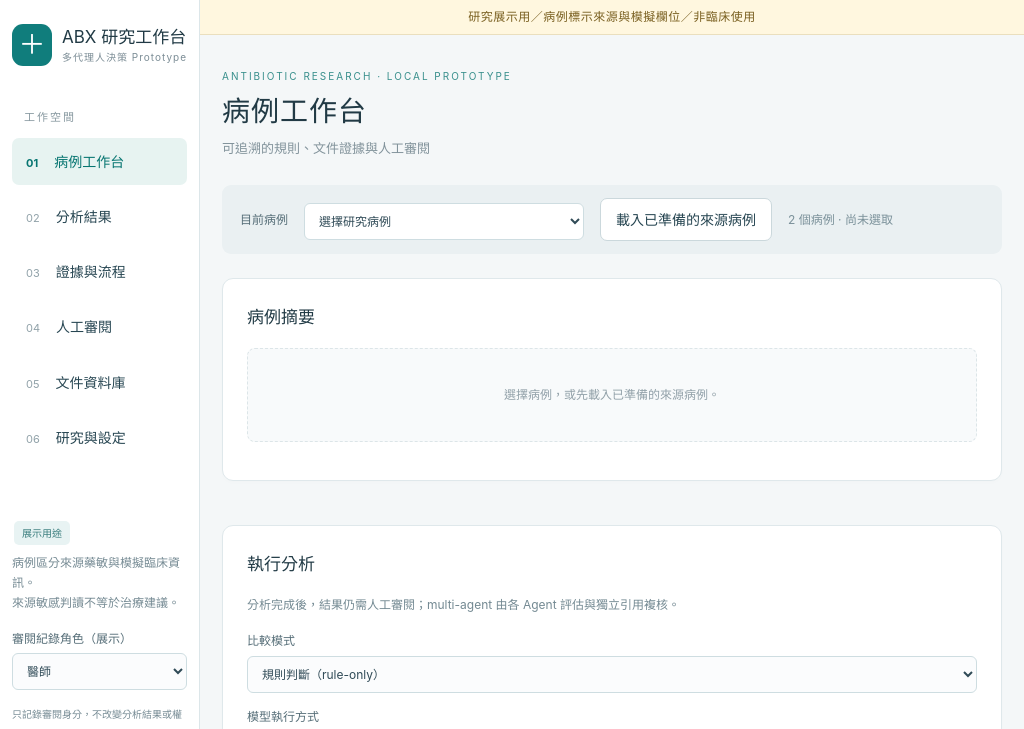
Test case: reference selection resets between cases and saves library or pinned scope
The width and height of the screenshot is (1024, 729).
Select "a · revision 1" in the dropdown labelled "目前病例": (444, 222) [304,204,584,240]
(page scrolled)
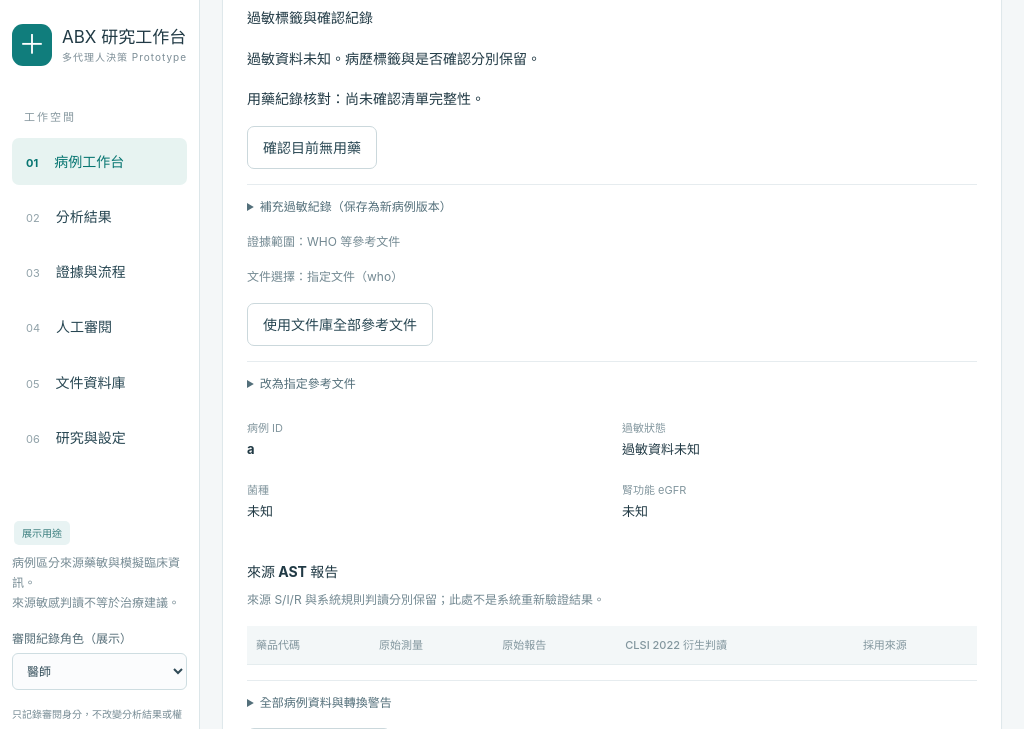
Now the heading "改為指定參考文件" is shown
Click the heading "改為指定參考文件": (308, 384) [260,376,356,391]
(page scrolled)
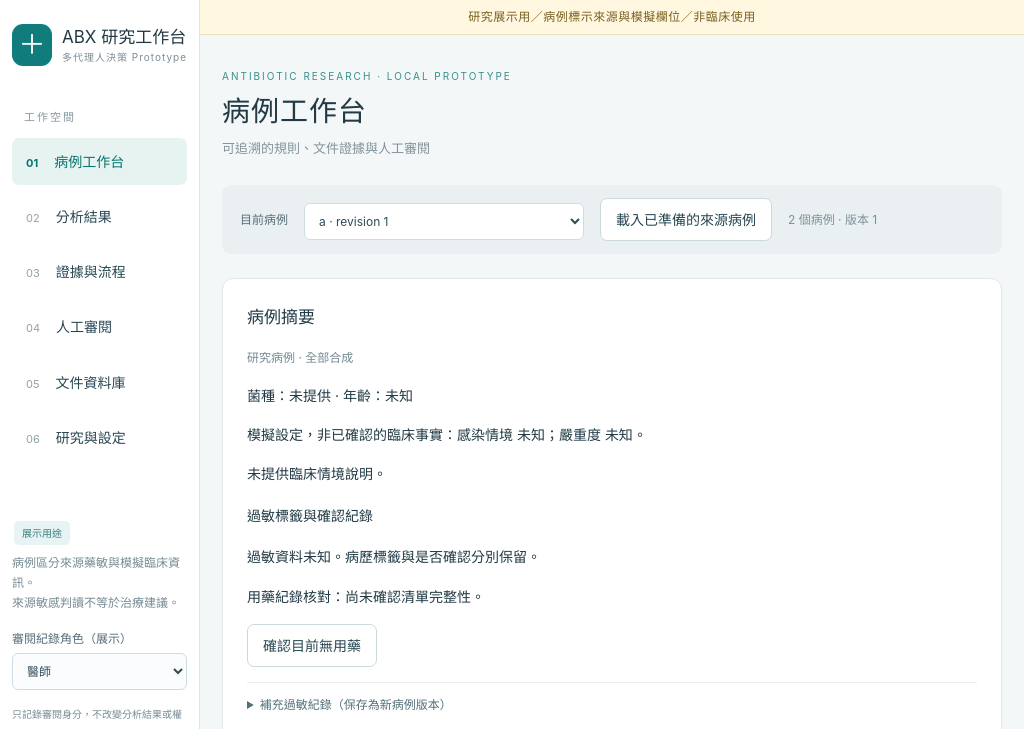
Select "b · revision 1" in the dropdown labelled "目前病例": (444, 222) [304,204,584,240]
(page scrolled)
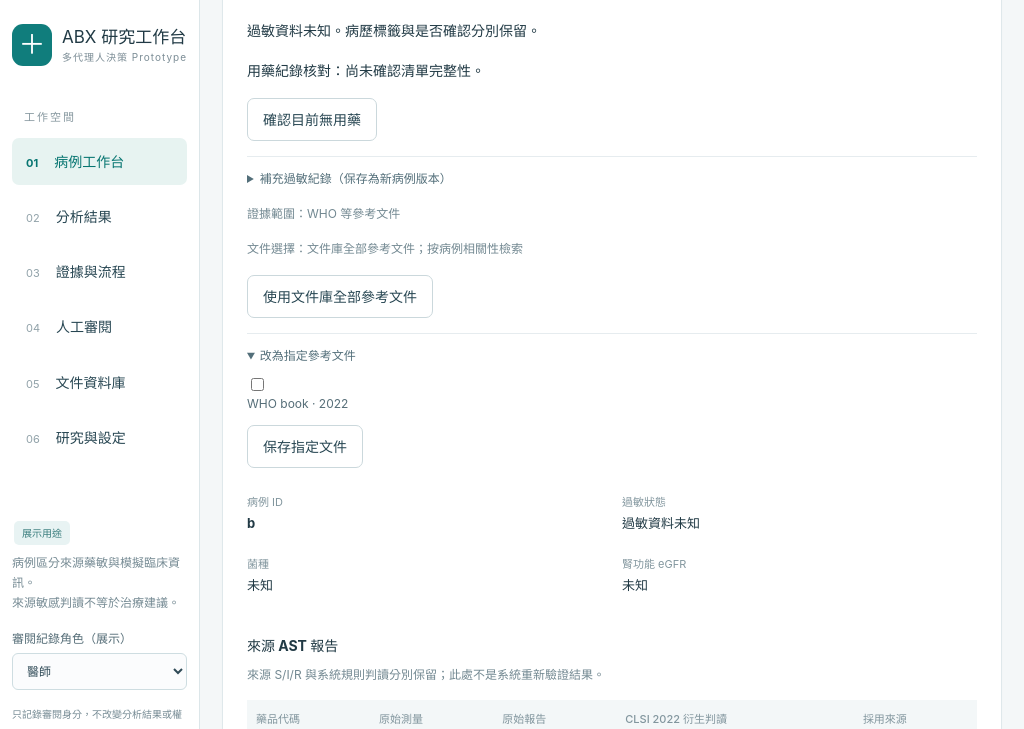
Now the checkbox labelled "WHO book · 2022" is not checked
Click the checkbox labelled "WHO book · 2022": (258, 384) [251,378,264,391]
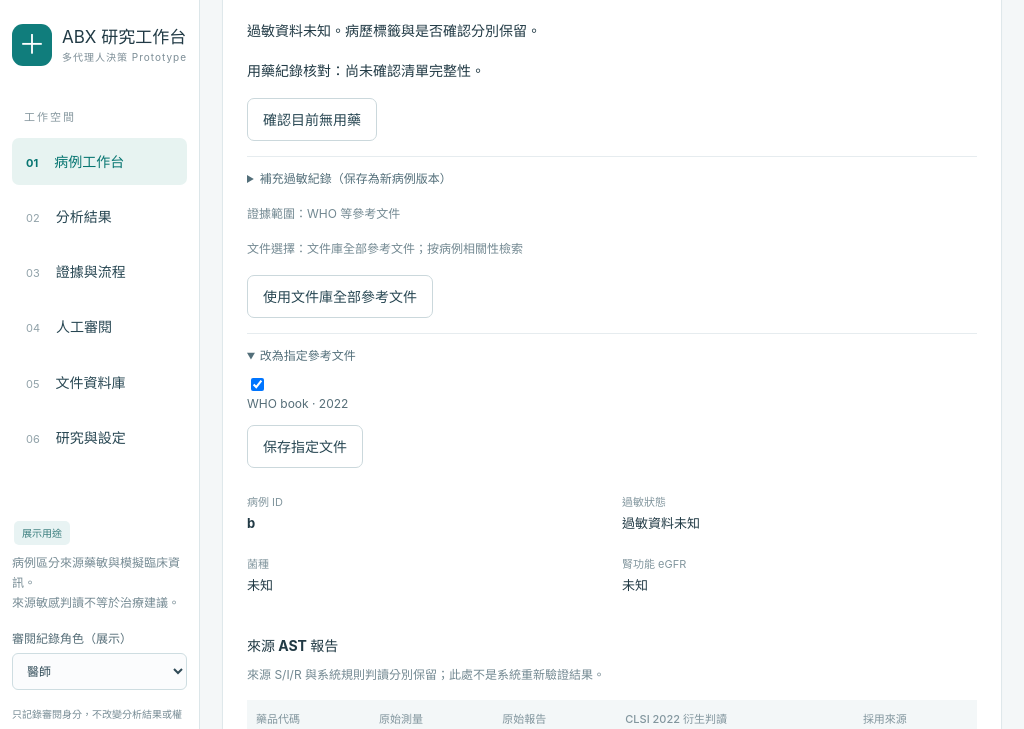
Click the button "保存指定文件": (305, 447) [247,425,363,468]
(page scrolled)
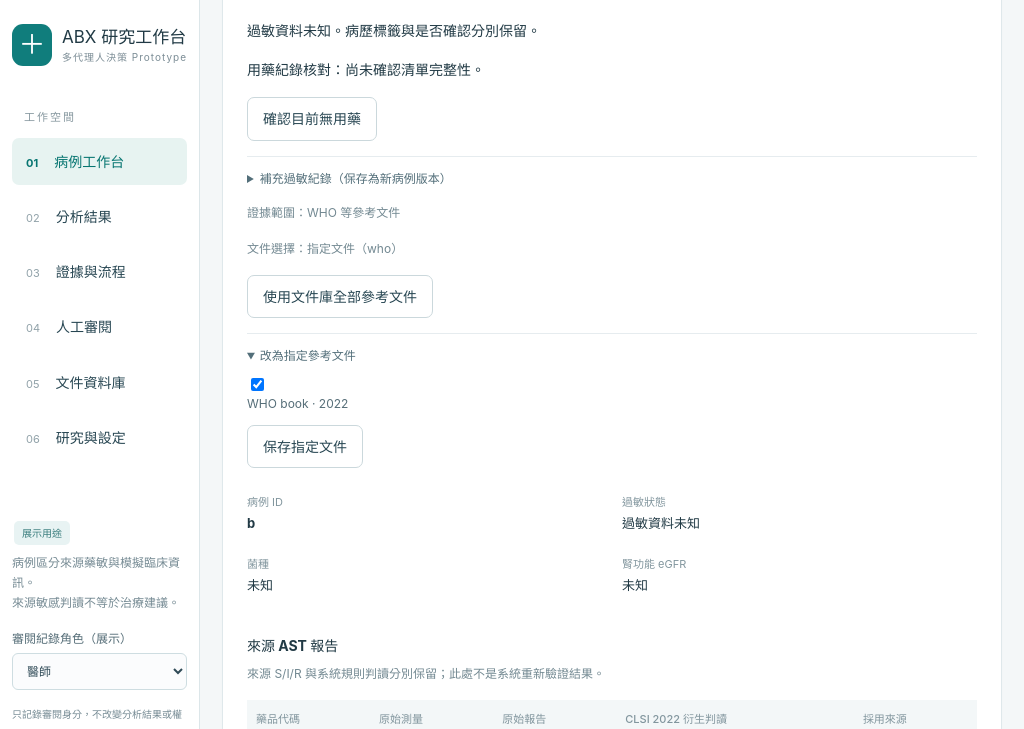
Click the button "使用文件庫全部參考文件": (340, 296) [247,275,433,318]
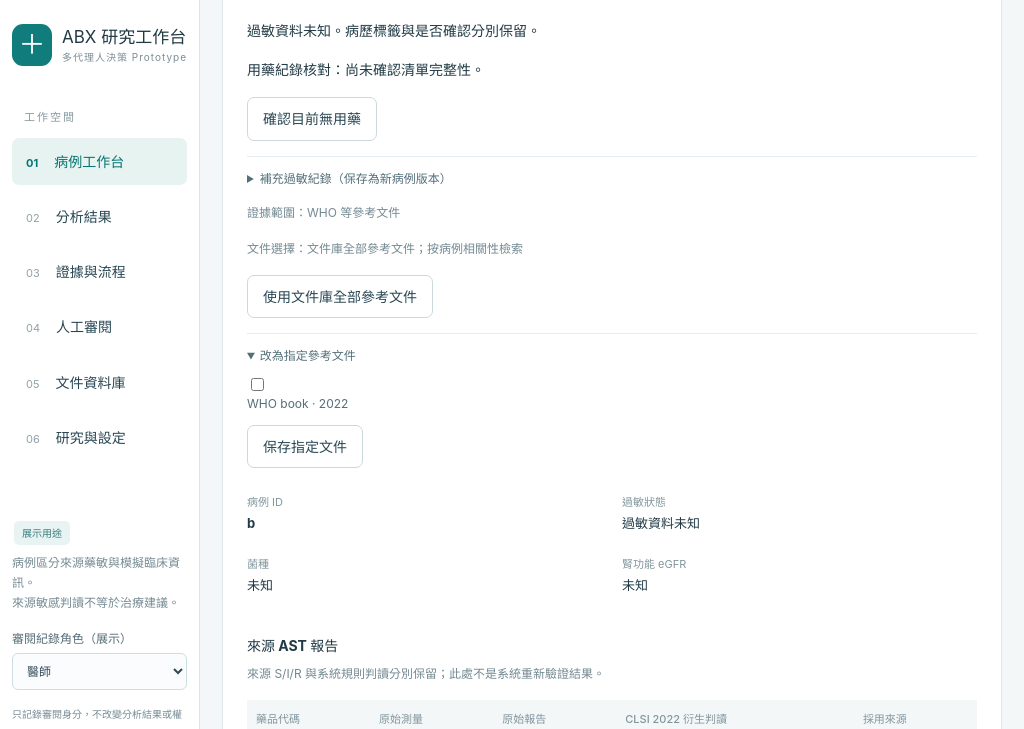
Now the checkbox labelled "WHO book · 2022" is not checked, box [251,378,264,391]
